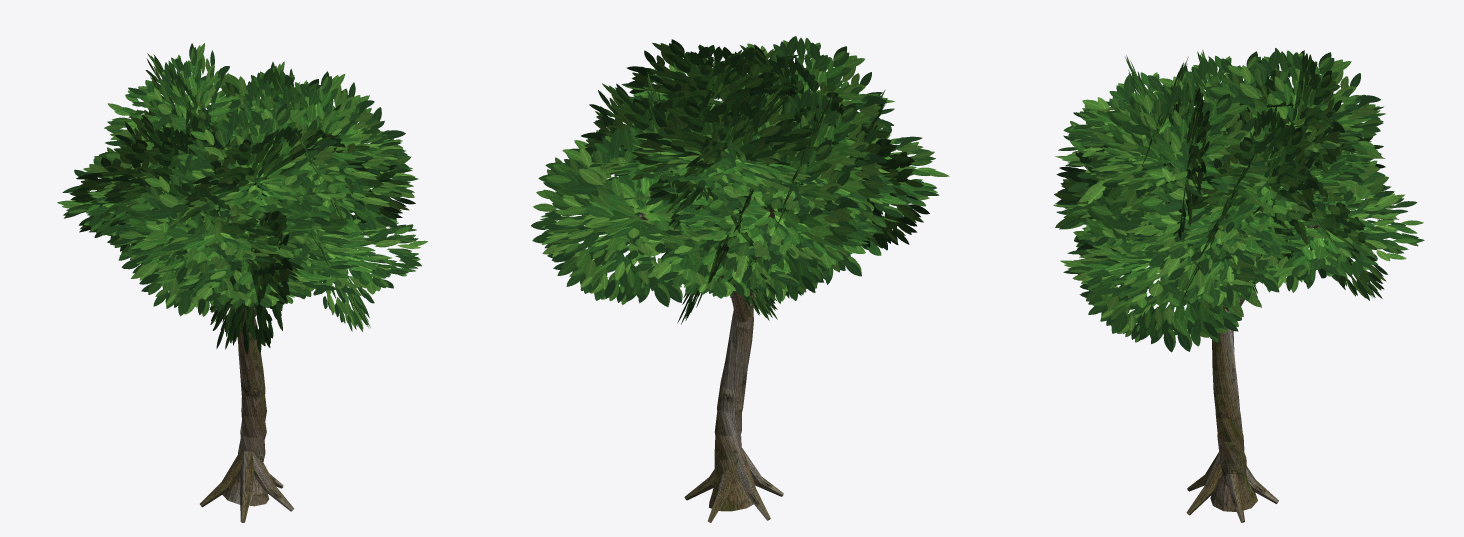
Rendered from jtree_b.glb.
3 views of the same model, side by side, from view 1: azimuth 30°, elevation 25°; view 2: azimuth 150°, elevation 25°; view 3: azimuth 270°, elevation 25° (orthographic). The views are drawn at different scales.
Parts seen in each view (by area): view 1: leaves, bark; view 2: leaves, bark; view 3: leaves, bark.
Boxes of the visible parts, x1,y1,x2,y2 form: leaves: (57, 43, 427, 354); bark: (200, 260, 294, 522); leaves: (531, 36, 949, 324); bark: (639, 208, 783, 522); leaves: (1053, 48, 1424, 352); bark: (1186, 225, 1319, 522).
Size of the model in its own units: 0.7582 by 0.831 by 0.7612.
2 materials, 2 textured.
